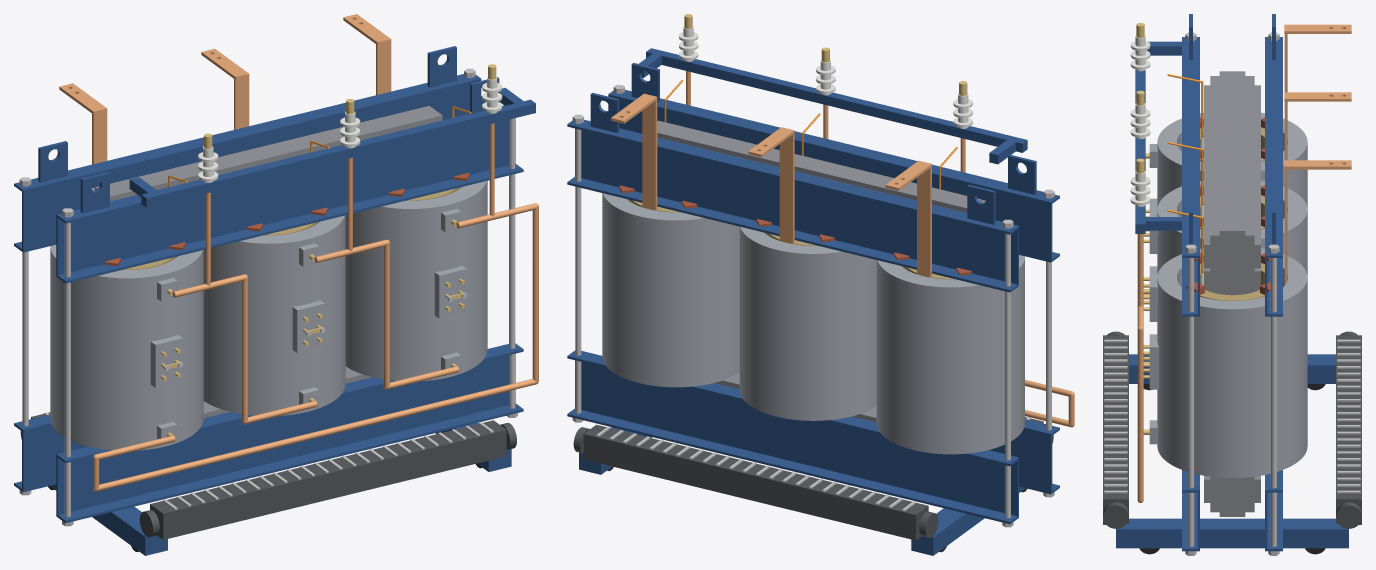
File: tr_dry.glb
3 renders of one model, left to right at view 1: azimuth 30°, elevation 25°; view 2: azimuth 150°, elevation 25°; view 3: azimuth 270°, elevation 25°, orthographic. The views are drawn at different scales.
Parts seen in each view (by area): view 1: hv_windings, clamps_top, clamps_bottom, fan_front, hv_terminals, hv_delta, tie_rods, yoke_top, lv_busbars, lifting_lugs, base, lv_windings; view 2: hv_windings, clamps_top, clamps_bottom, fan_back, hv_terminals, lv_busbars, tie_rods, yoke_top, lifting_lugs, base, hv_delta; view 3: hv_windings, yoke_top, clamps_top, base, fan_front, fan_back, tie_rods, hv_terminals, core, lv_busbars, clamps_bottom, hv_delta (+5 smaller).
Boxes of the visible parts, x1,y1,x2,y2 form: hv_windings: [50, 180, 487, 450]; clamps_top: [14, 74, 523, 283]; clamps_bottom: [14, 343, 523, 523]; fan_front: [139, 420, 516, 539]; hv_terminals: [129, 64, 535, 285]; hv_delta: [93, 203, 538, 491]; tie_rods: [19, 68, 517, 526]; yoke_top: [91, 106, 442, 201]; lv_busbars: [59, 14, 391, 164]; lifting_lugs: [38, 46, 499, 213]; base: [50, 423, 511, 555]; lv_windings: [122, 187, 460, 269]; hv_windings: [602, 193, 1024, 454]; clamps_top: [567, 89, 1059, 292]; clamps_bottom: [567, 350, 1059, 524]; fan_back: [573, 424, 938, 540]; hv_terminals: [639, 14, 1027, 172]; lv_busbars: [611, 93, 931, 277]; tie_rods: [572, 85, 1054, 527]; yoke_top: [657, 120, 985, 212]; lifting_lugs: [590, 63, 1036, 224]; base: [579, 427, 1025, 555]; hv_delta: [1025, 380, 1074, 427]; hv_windings: [1143, 112, 1307, 477]; yoke_top: [1204, 71, 1260, 282]; clamps_top: [1182, 37, 1282, 316]; base: [1116, 354, 1348, 548]; fan_front: [1103, 331, 1128, 528]; fan_back: [1336, 331, 1361, 528]; tie_rods: [1185, 32, 1279, 555]; hv_terminals: [1130, 23, 1181, 306]; core: [1204, 268, 1260, 516]; lv_busbars: [1284, 24, 1351, 285]; clamps_bottom: [1182, 470, 1282, 551]; hv_delta: [1137, 234, 1143, 502].
Bounding box in the file's own units: 2 × 1.68 × 1.
